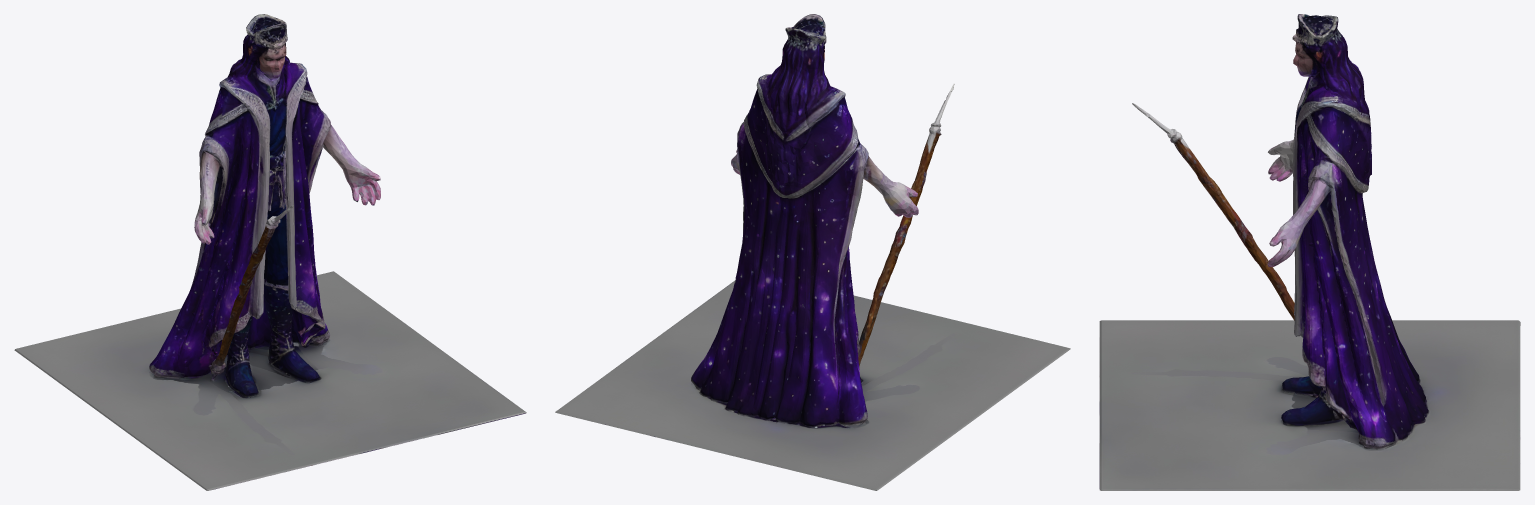
File: batch2_00_generated_from_image_glb__4_.glb
3 renders of one model, left to right at view 1: azimuth 30°, elevation 25°; view 2: azimuth 150°, elevation 25°; view 3: azimuth 270°, elevation 25°, orthographic. The views are drawn at different scales.
Parts seen in each view (by area): view 1: textured_mesh.obj; view 2: textured_mesh.obj; view 3: textured_mesh.obj.
Part boxes in pixels (x1,y1,x2,y2): textured_mesh.obj: (14,14,526,490); textured_mesh.obj: (555,14,1070,490); textured_mesh.obj: (1099,14,1520,490).
Bounding box in the file's own units: 1.85 × 1.99 × 1.94.
Materials: 1 (1 with a texture image).
